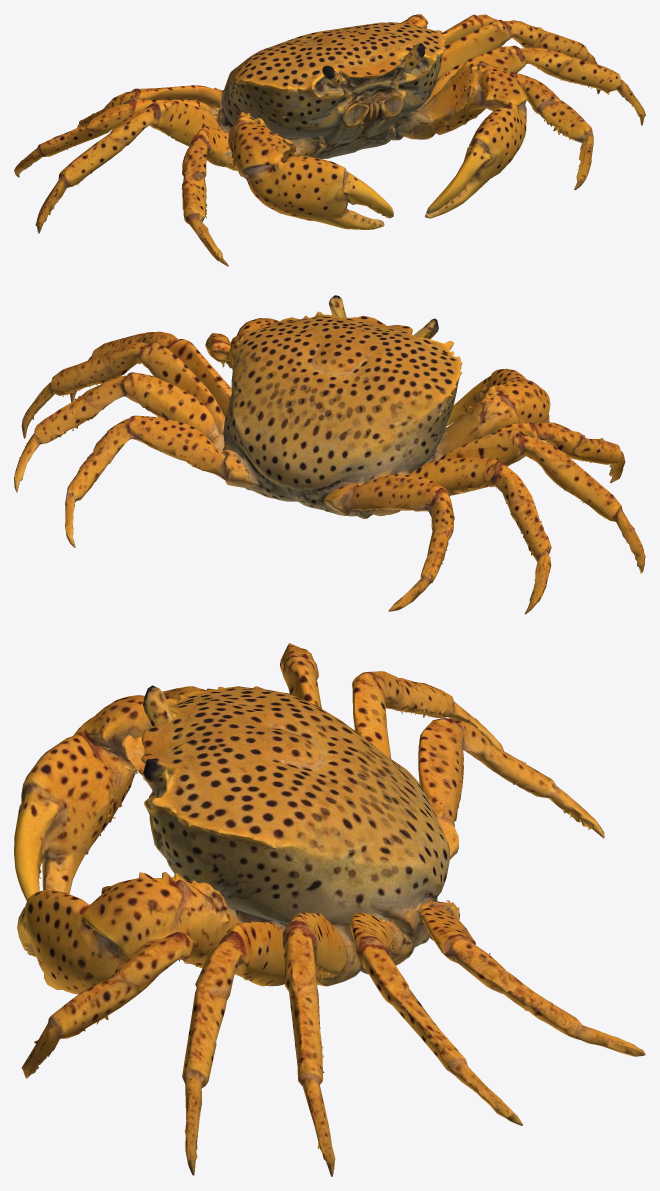
Rendered from panther.glb.
3 renders of one model, top to bottom at view 1: azimuth 30°, elevation 25°; view 2: azimuth 150°, elevation 25°; view 3: azimuth 270°, elevation 25°, orthographic. The views are drawn at different scales.
Visible parts, largest first — view 1: panther; view 2: panther; view 3: panther.
Part boxes in pixels (x1=…): panther: x1=14, y1=14, x2=645, y2=266; panther: x1=14, y1=295, x2=645, y2=614; panther: x1=14, y1=643, x2=645, y2=1176.
Bounding box in the file's own units: 0.0517 × 0.0129 × 0.0311.
Materials: 1 (1 with a texture image).
